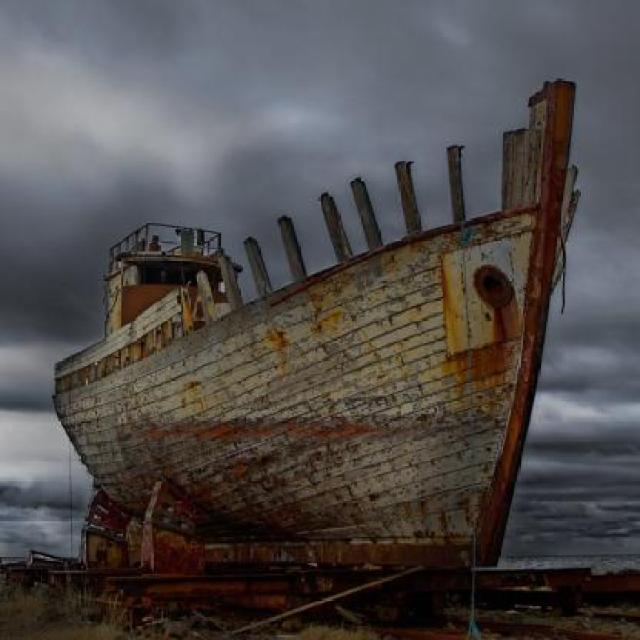corrosion: (48, 79, 580, 575)
